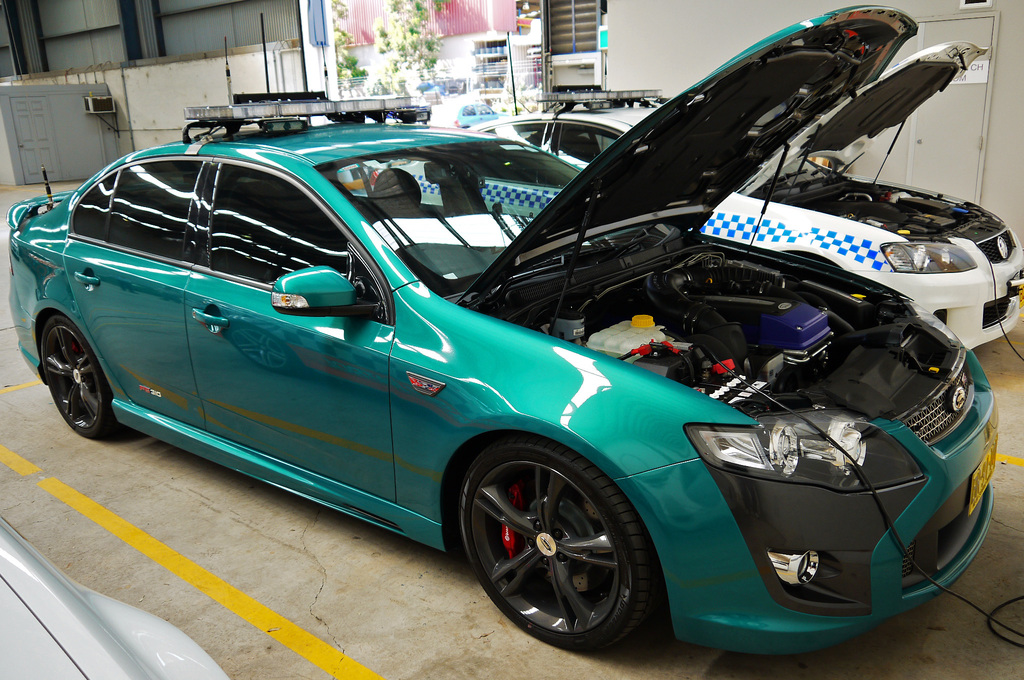Car: (41, 93, 1007, 653), (338, 30, 1023, 348), (0, 510, 229, 679), (448, 101, 510, 129)
